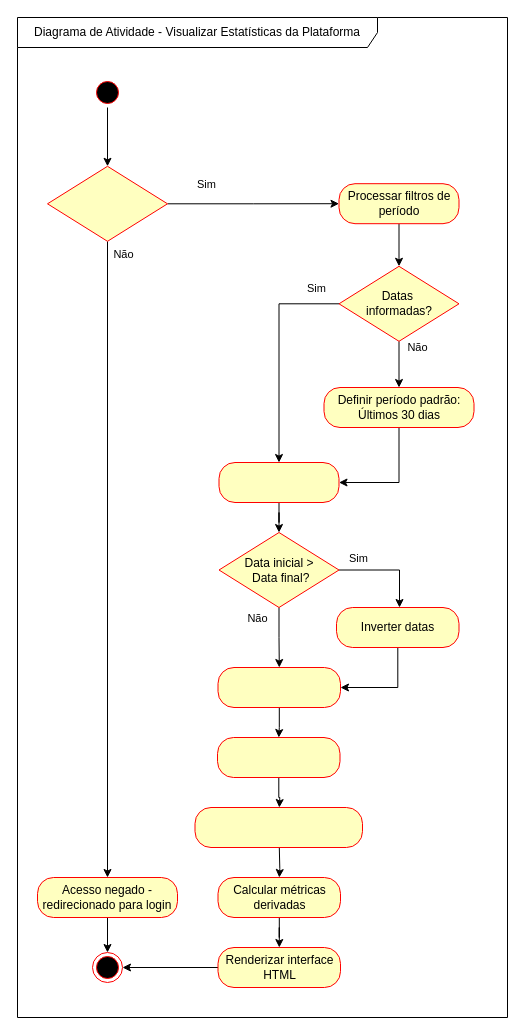
The diagram is 525 pixels wide and 1035 high, and some of its shapes have lost their labels. The shapes that lost their labels are listed below. From the top down, each one's centre as x and y in pixels, then its label:
At [107,203]: "Usuário é Administrador?".
At [278,482]: "Validar datas".
At [278,687]: "Executar Queries".
At [278,757]: "Processar dados para gráficos".
At [278,827]: "Preparar dados para Chart.js - labels, dados e cores".
